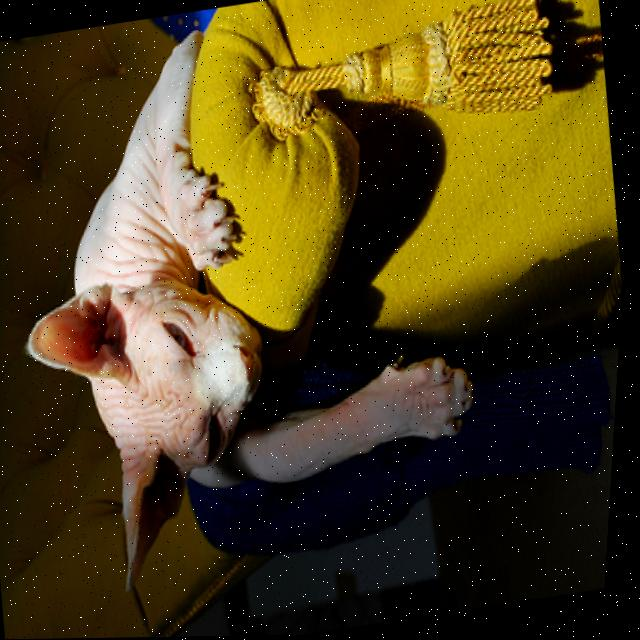Sphynx: (0, 0, 520, 611)
